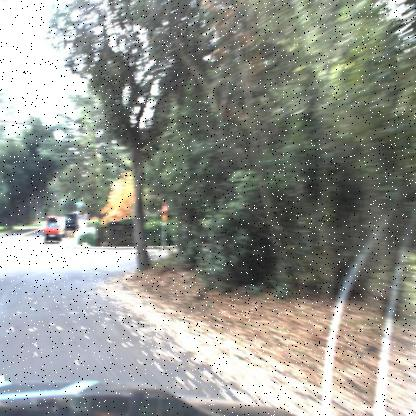car: (43, 213, 63, 246)
